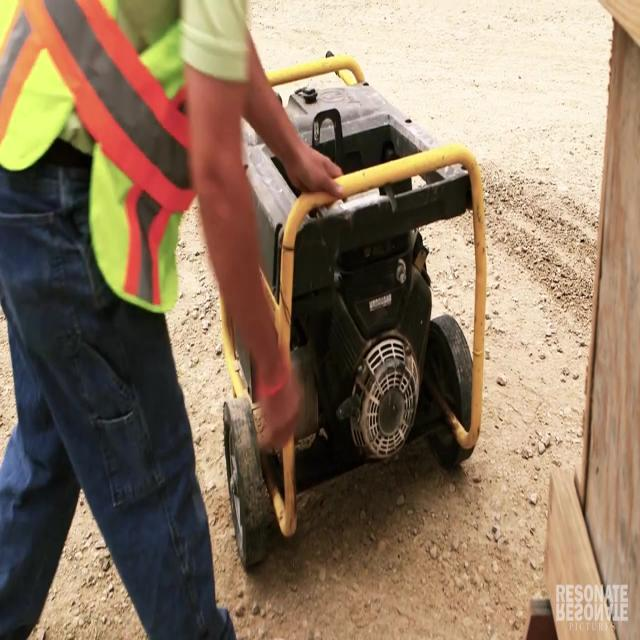Reflective-Jacket: (1, 0, 270, 303)
